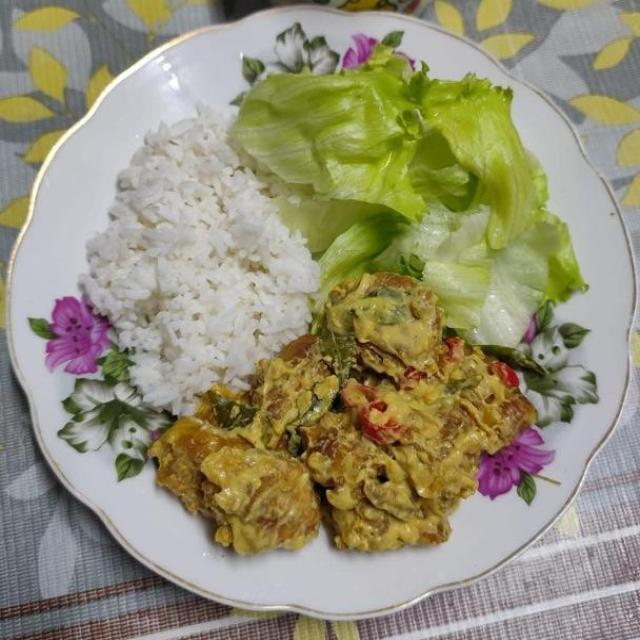Chicken: (145, 282, 538, 547)
Plate: (10, 8, 633, 616)
Rice: (83, 115, 303, 429)
Vegetables: (237, 73, 586, 346)
